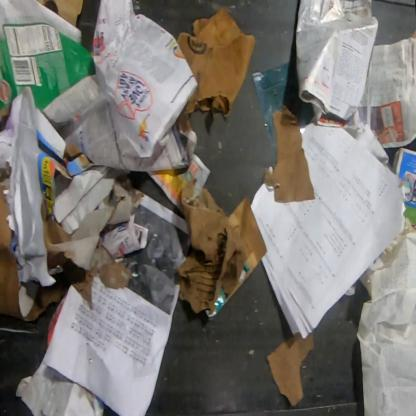cardboard: (175, 179, 250, 314), (0, 20, 96, 125), (49, 175, 144, 277), (36, 108, 93, 221), (53, 165, 132, 235), (266, 330, 315, 408), (35, 0, 84, 28)
soft_plastic: (252, 59, 314, 164)
